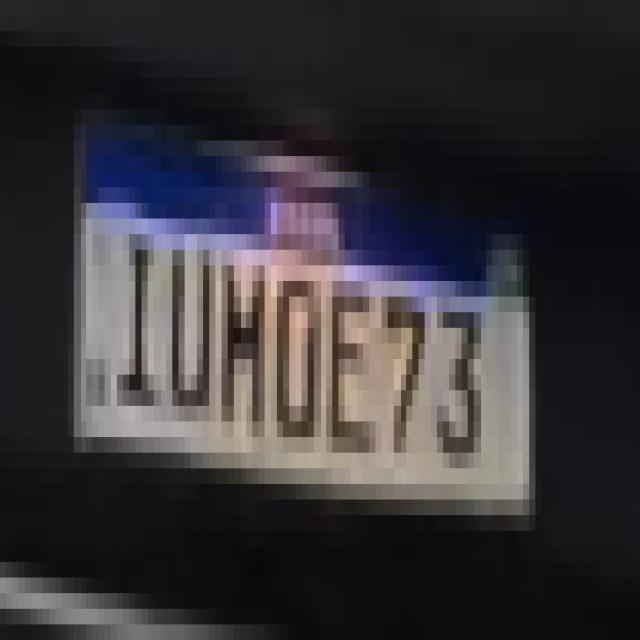Placa_mercosul_carro: (71, 97, 539, 531)
